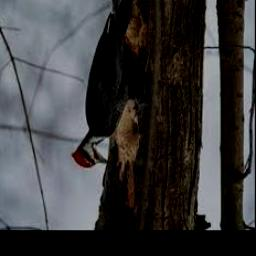Woodpecker: (72, 0, 143, 169)
